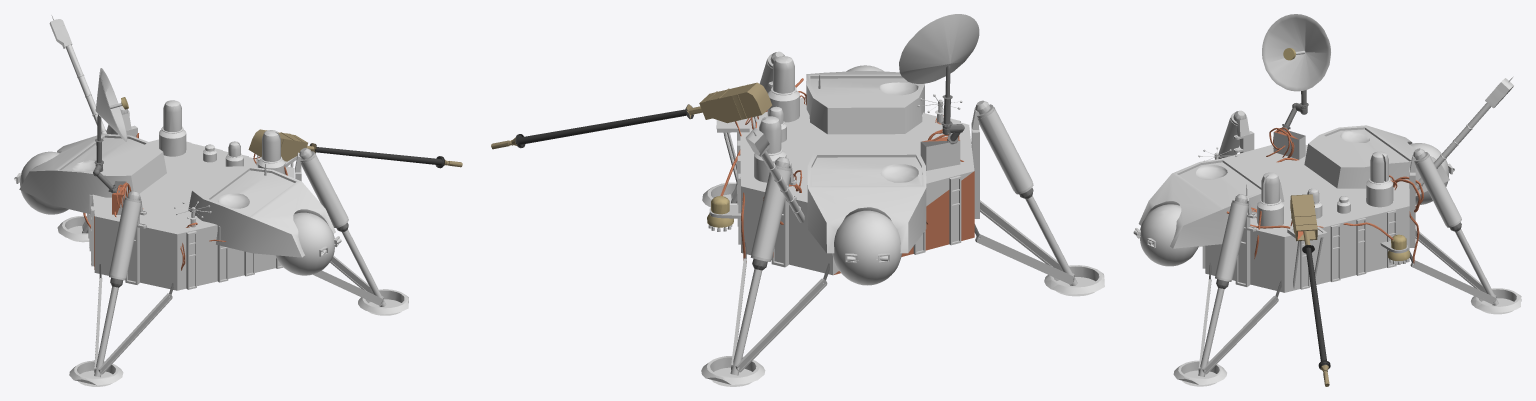
The model's file is viking-lander.glb.
3 renders of one model, left to right at view 1: azimuth 30°, elevation 25°; view 2: azimuth 150°, elevation 25°; view 3: azimuth 270°, elevation 25°, orthographic. The views are drawn at different scales.
Visible parts, largest first — view 1: body; view 2: body; view 3: body.
Boxes of the visible parts, x1,y1,x2,y2 form: body: (14, 15, 462, 386); body: (491, 14, 1104, 386); body: (1133, 14, 1521, 386).
Size of the model in its own units: 16.74 by 8.97 by 12.55.
